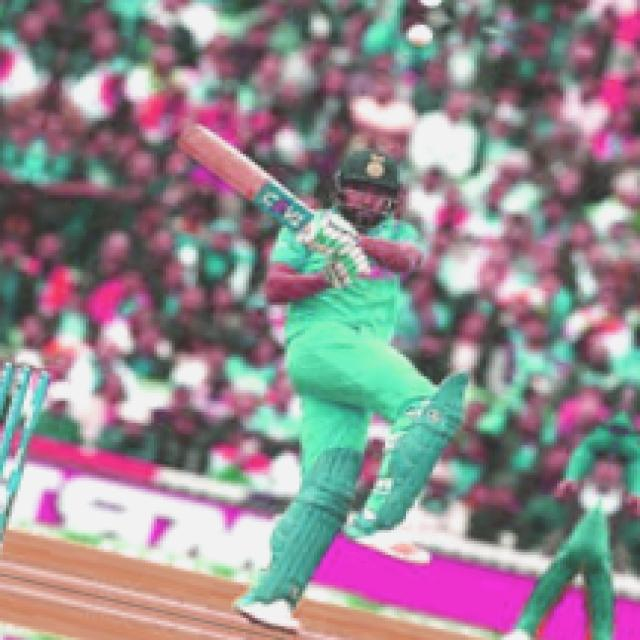toe: (171, 120, 213, 156)
